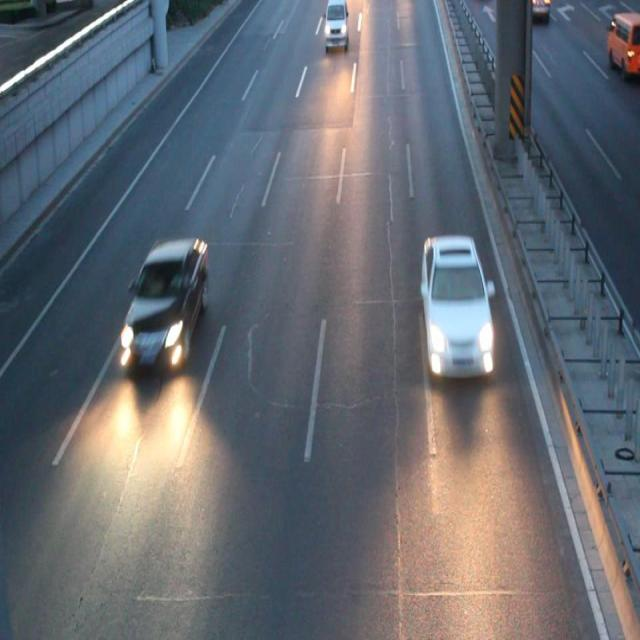car: (124, 238, 207, 369), (421, 234, 491, 375), (524, 1, 548, 20)
truck: (605, 14, 640, 76), (324, 2, 348, 48)
